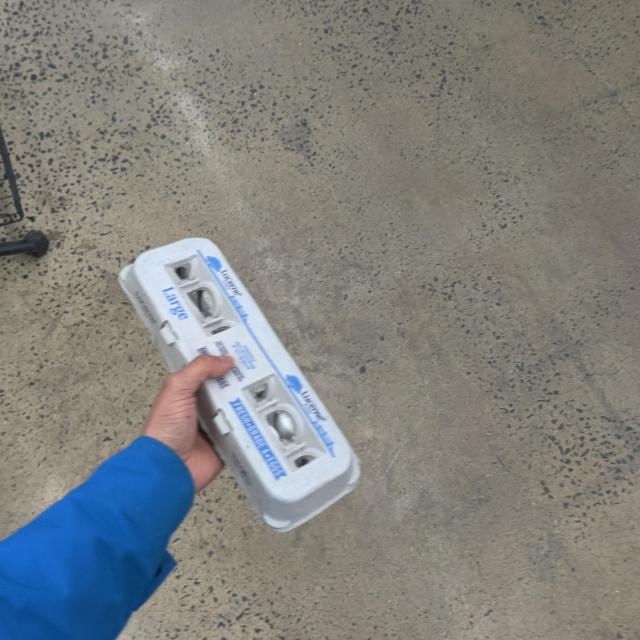Eggs: (120, 203, 370, 538)
